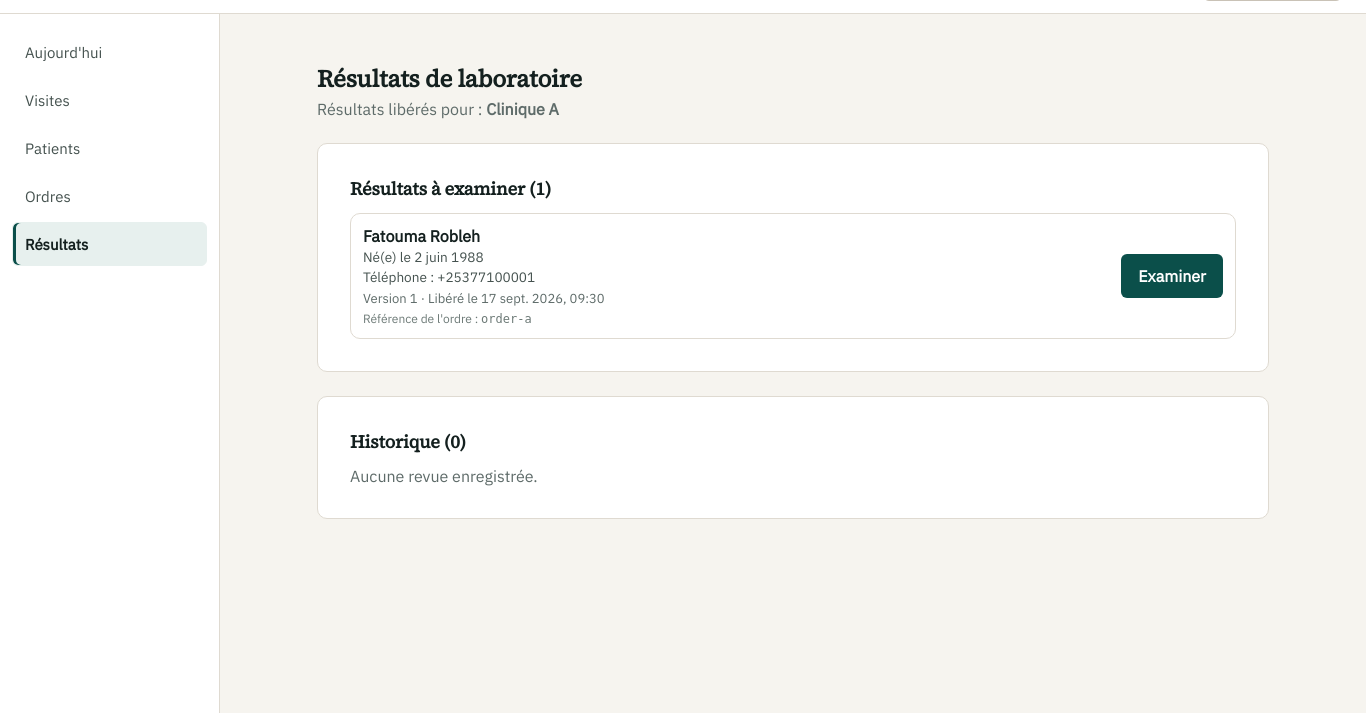
Test: clinic entry point — the button belongs to the version on screen › prints Version 1 while Version 2 is the current release
// The queue entry is the Version 1 review obligation, so the panel opens on Version 1.
Step 1. Click the button with aria-label "Examiner le résultat de" → x=1172, y=276, box 1121,254 -> 1223,298
(page scrolled)
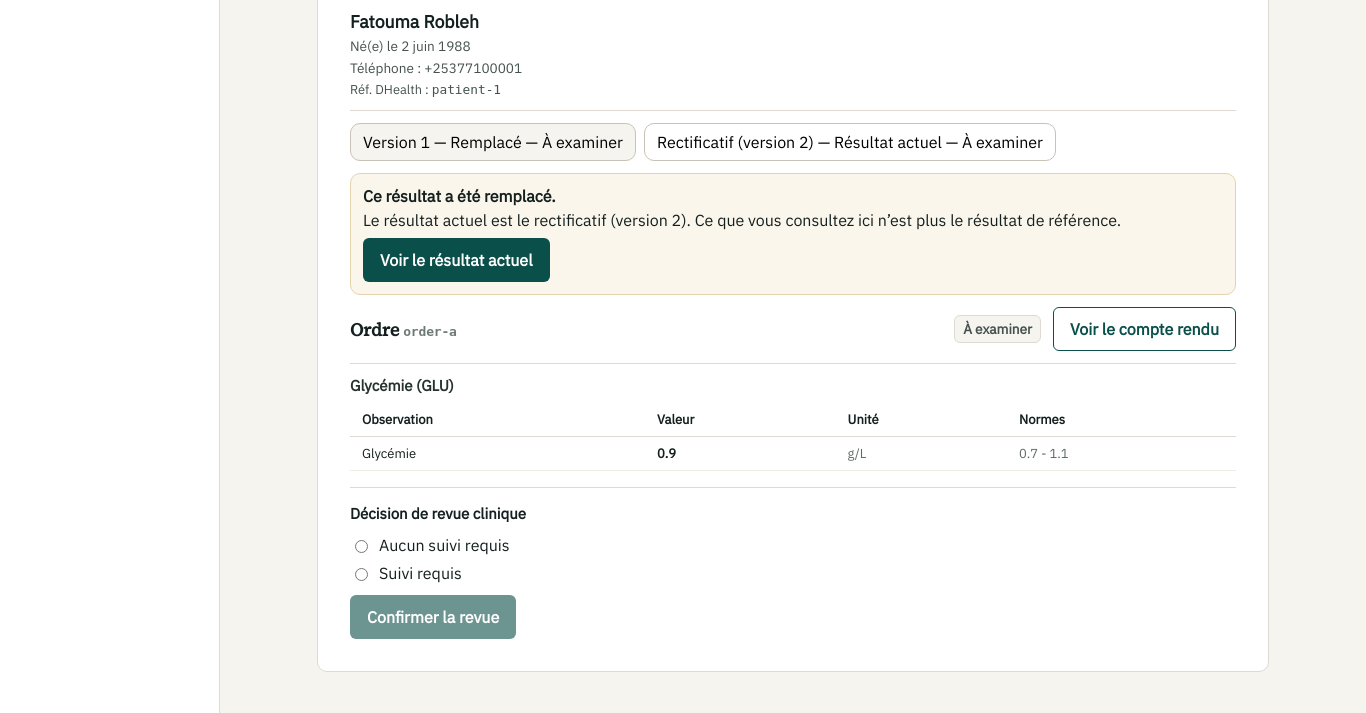
Step 2. Click the button "Voir le compte rendu" → x=1144, y=329, box 1053,307 -> 1236,351
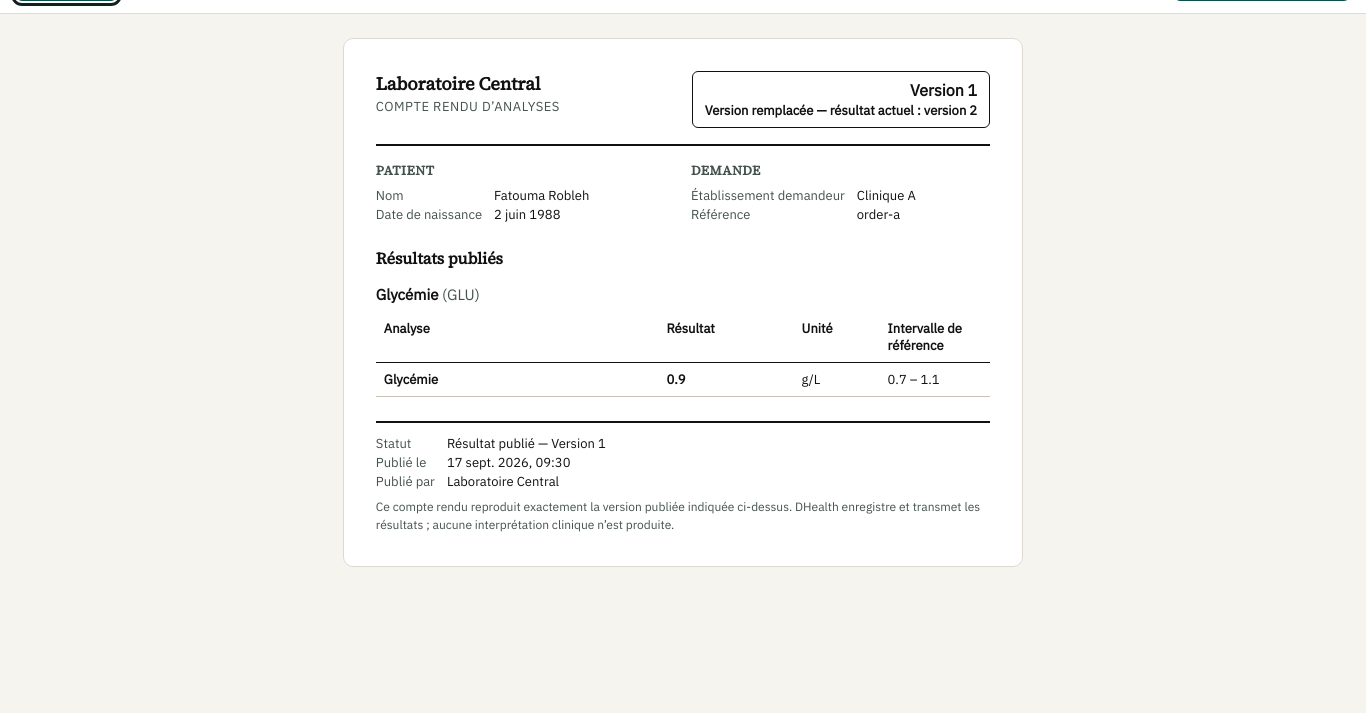
Now the text "Compte rendu d’analyses" is shown, box 376,98 -> 560,115
Now the text "Version remplacée — résultat actuel : version 2" is shown, box 705,102 -> 977,119
